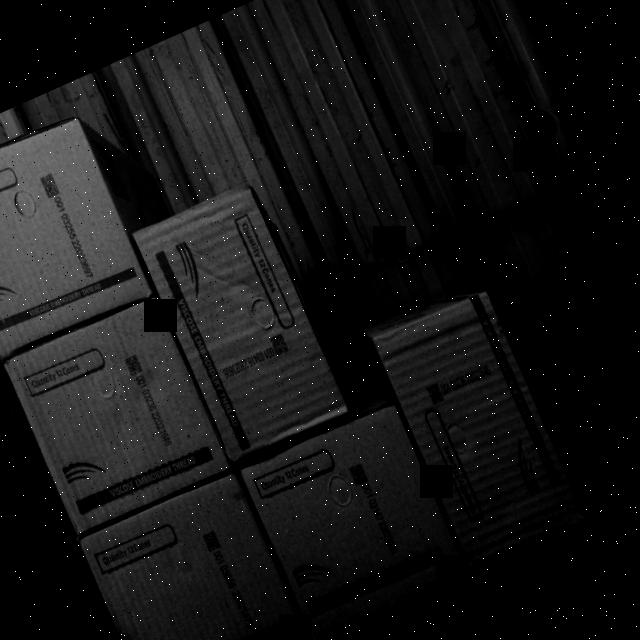box: (369, 288, 588, 566), (134, 184, 352, 459), (239, 401, 472, 640), (3, 297, 233, 534), (75, 469, 314, 640), (0, 107, 153, 356)
